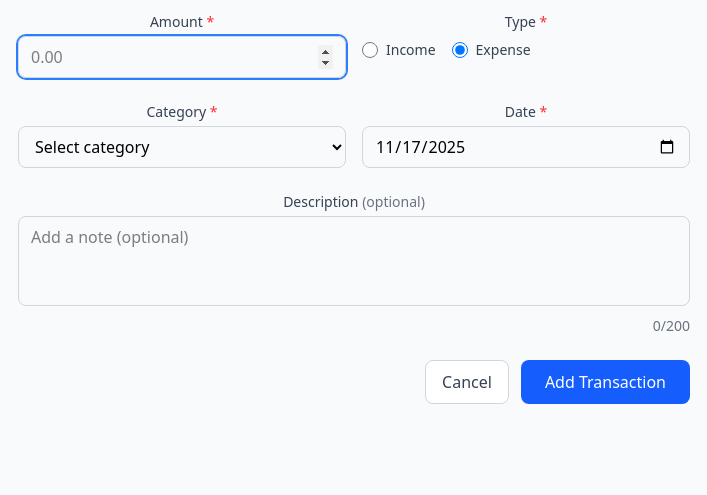
TransactionForm › Error Handling › should display error message when submission fails
# Fill and submit form
In the number field labelled "Amount *": point(182, 57) top-left (18, 36), bottom-right (346, 78), type "100"
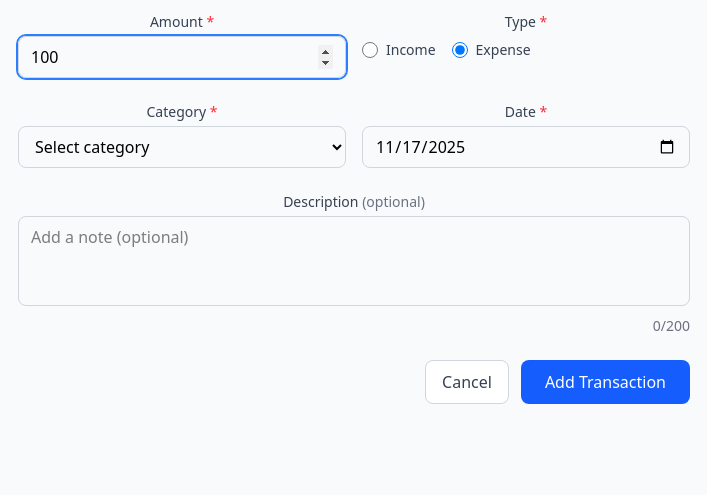
Select "Food/Groceries" in the dropdown labelled "Category *": point(182, 147) top-left (18, 126), bottom-right (346, 168)
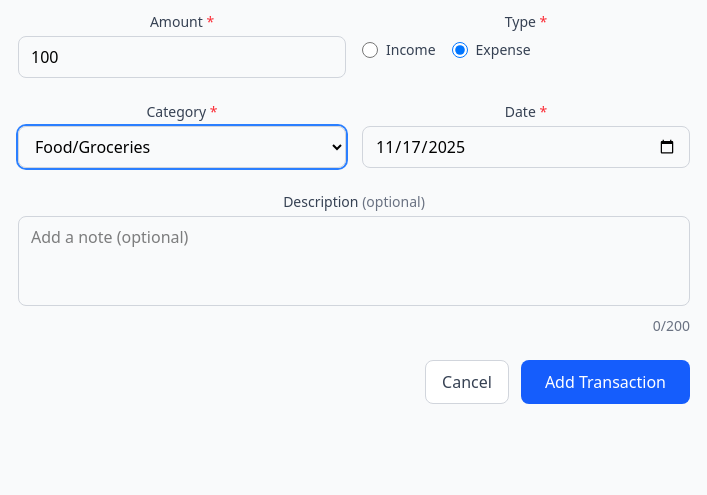
Click the button "Add Transaction": point(605, 382) top-left (521, 360), bottom-right (690, 404)
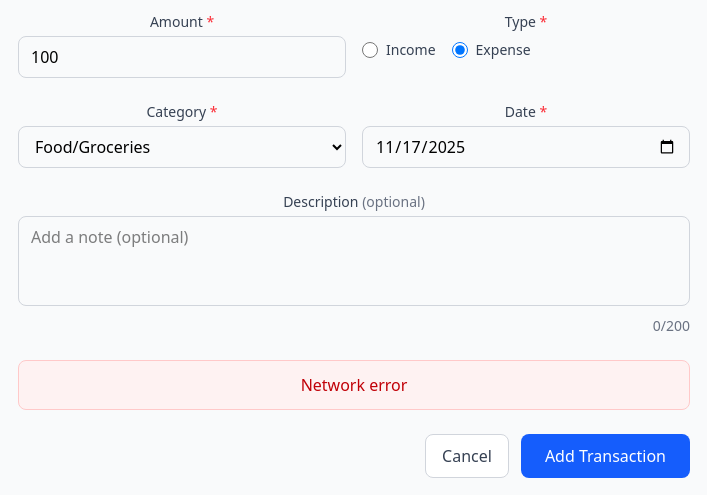
Now the text "Network error" is shown, box top-left (18, 360), bottom-right (690, 410)
